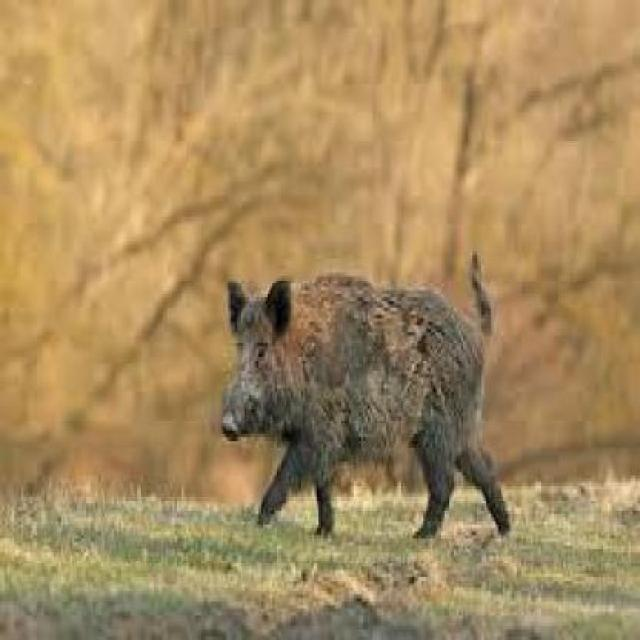wildboar: (220, 239, 515, 553)
